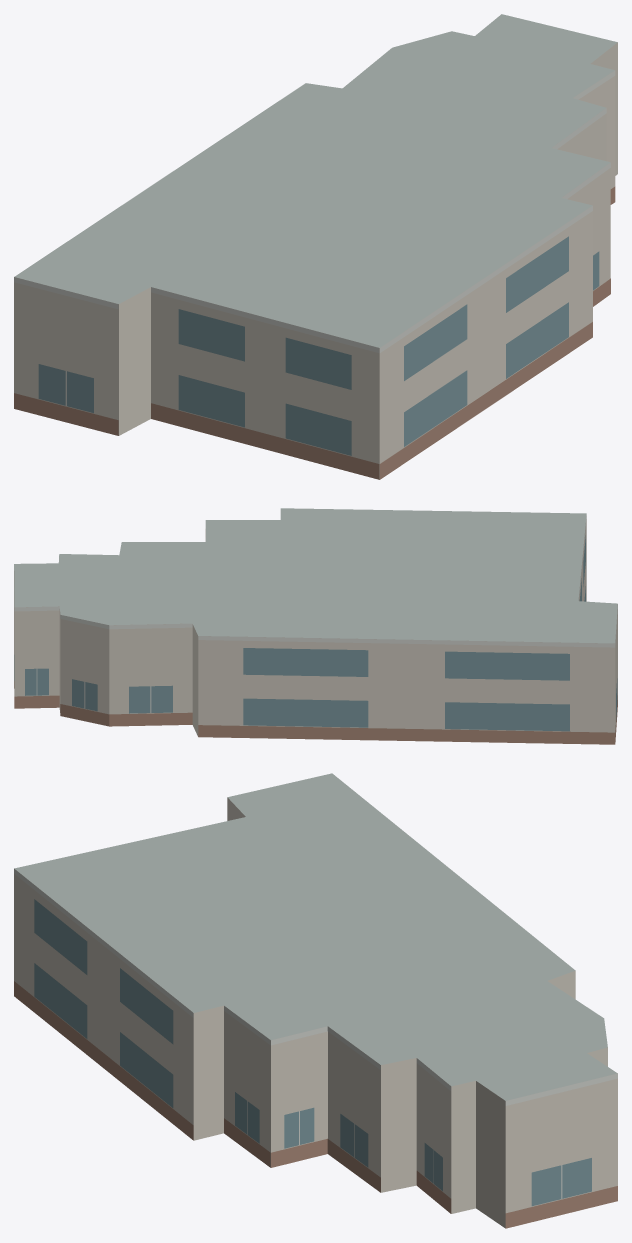
Rendered from survey-upis-32721861.glb.
3 renders of one model, top to bottom at view 1: azimuth 30°, elevation 25°; view 2: azimuth 150°, elevation 25°; view 3: azimuth 270°, elevation 25°, orthographic. The views are drawn at different scales.
Parts seen in each view (by area): view 1: survey-upis-32721861.tmp; view 2: survey-upis-32721861.tmp; view 3: survey-upis-32721861.tmp.
Boxes of the visible parts, box(x1,y1,x2,y2) form: survey-upis-32721861.tmp: box(14, 14, 617, 479); survey-upis-32721861.tmp: box(14, 508, 617, 744); survey-upis-32721861.tmp: box(14, 773, 617, 1228).
Bounding box in the file's own units: 31.37 × 5.7 × 24.43.
